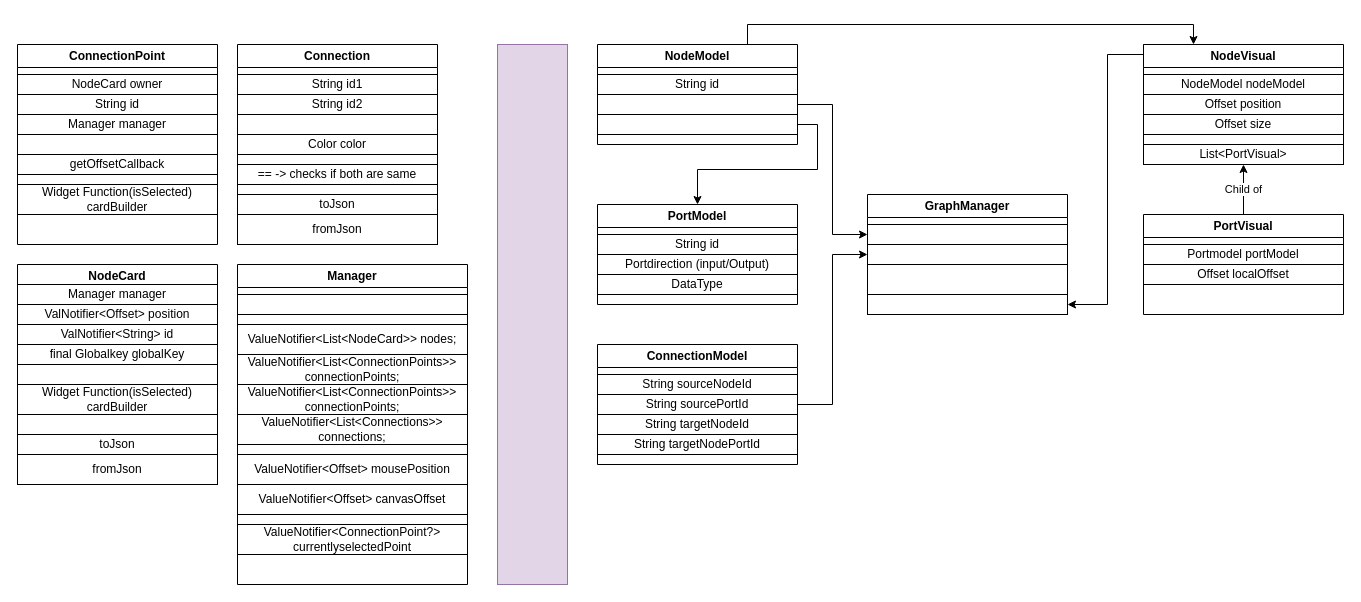
Image size: 1361x602. Some labels were removed from this diagram. The centre of each missing label's shape, as x and y in pixels:
List<ConnectionModel>: the point at 967,254
List<NodeModel>: the point at 967,234
List<NodeVisual>: the point at 967,304
List<PortModel> ports: the point at 697,124
String Function() getNewID: the point at 352,304
String typename: the point at 697,104
